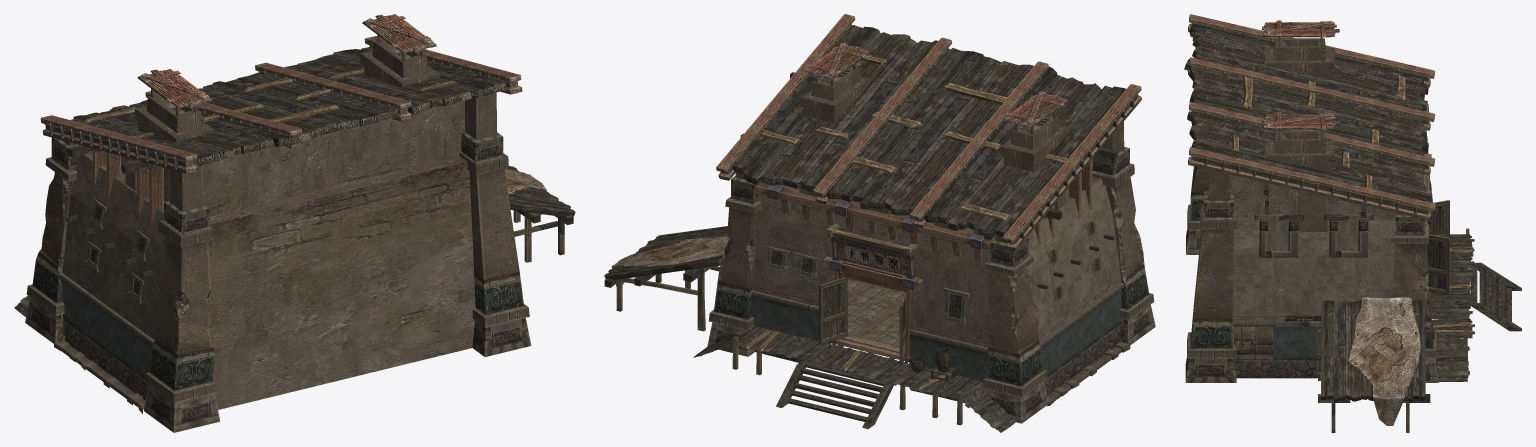
The model's file is hotel.fbx.
The picture shows the model from 3 angles, left to right: view 1: azimuth 30°, elevation 25°; view 2: azimuth 150°, elevation 25°; view 3: azimuth 270°, elevation 25°; orthographic projection. The views are drawn at different scales.
Parts seen in each view (by area): view 1: S_cc_bdm01_y.mo; view 2: S_cc_bdm01_y.mo; view 3: S_cc_bdm01_y.mo.
Boxes of the visible parts, x1,y1,x2,y2 form: S_cc_bdm01_y.mo: (14,14,575,432); S_cc_bdm01_y.mo: (604,14,1155,432); S_cc_bdm01_y.mo: (1184,14,1521,432).
Size of the model in its own units: 2317 by 1313 by 1643.
3 materials, 3 textured.
